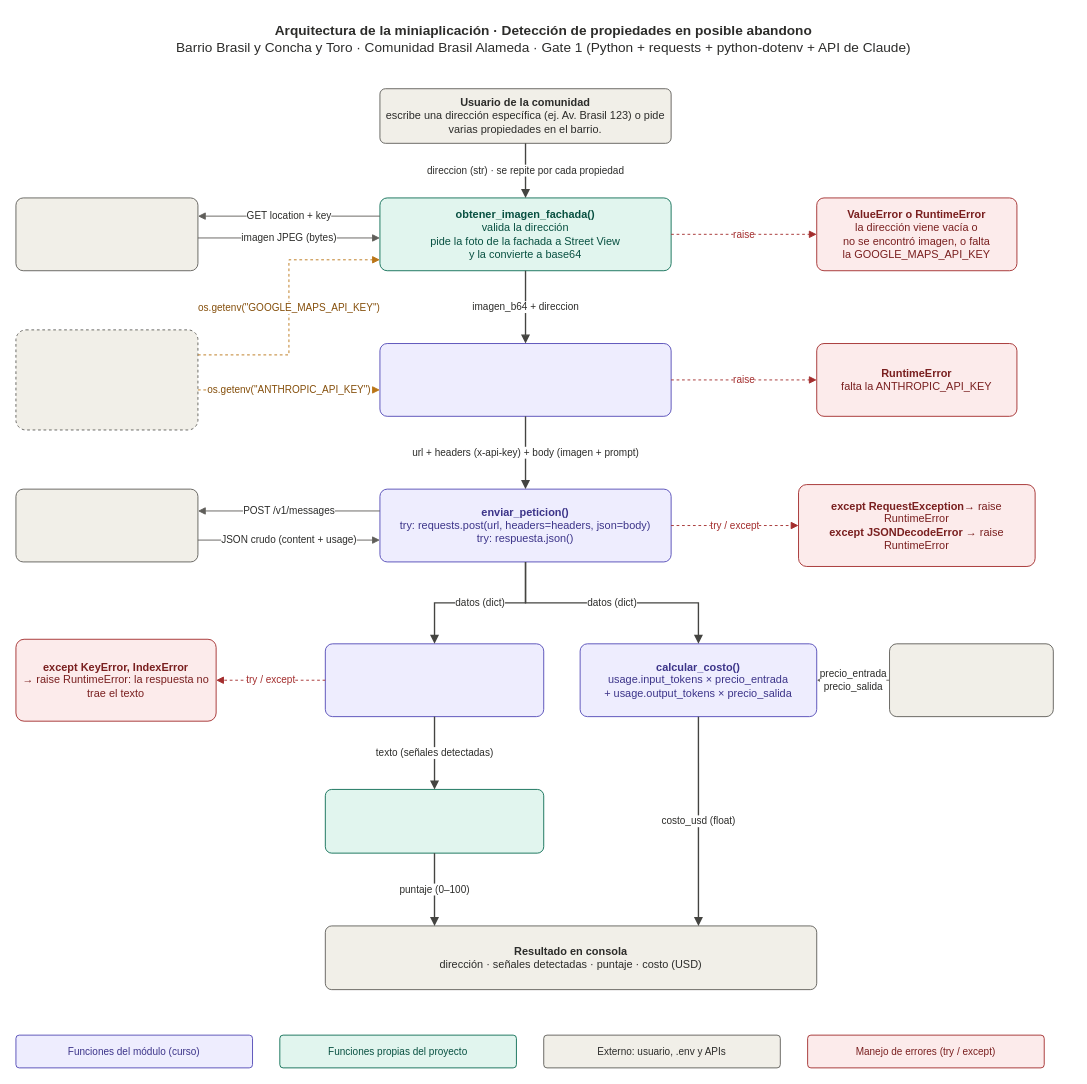
Some shapes in this 1087 by 1084 pixel diagram are drawn without their labels. Each missing label, with the centre of its shape:
.env (en .gitignore) ANTHROPIC_API_KEY GOOGLE_MAPS_API_KEY: point (106, 379)
API de Claude (Anthropic) POST /v1/messages (externa): point (106, 525)
armar_peticion() lee ANTHROPIC_API_KEY arma url, headers (x-api-key) y body: point (525, 379)
calcular_puntaje() señales detectadas → puntaje de 0 a 100: point (434, 821)
extraer_texto() try: datos["content"][0]["text"]: point (434, 680)
Google Street View API (externa): point (106, 234)
Precios por token (precios en variables constantes): point (971, 680)
